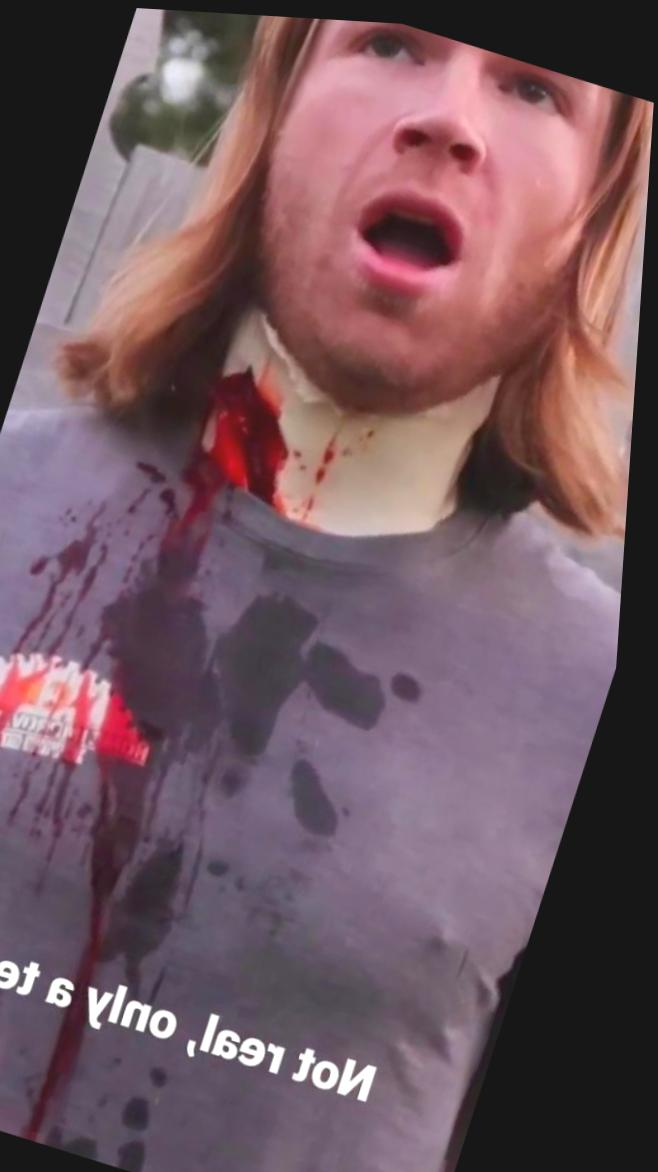Fire: (45, 445, 240, 992), (25, 502, 122, 651), (38, 973, 119, 1144), (0, 654, 119, 764), (212, 366, 294, 500), (284, 435, 342, 527), (66, 1132, 113, 1158)
